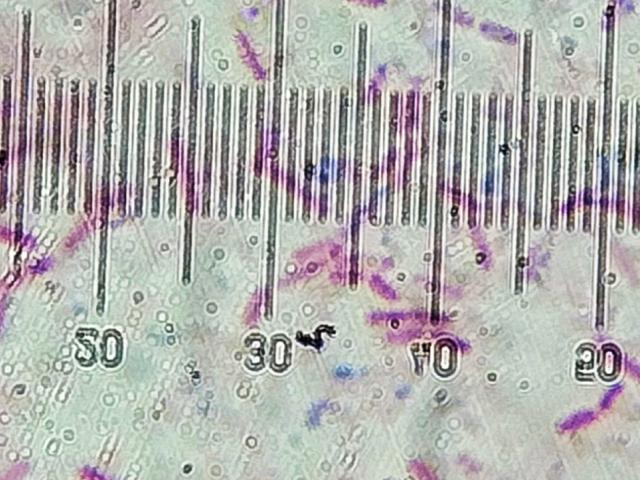E. coli: (391, 325, 479, 357), (225, 30, 269, 78), (365, 306, 447, 323), (59, 220, 88, 262), (363, 57, 391, 98), (465, 222, 492, 264), (401, 450, 438, 480), (556, 407, 591, 438), (595, 380, 621, 418), (479, 22, 519, 46), (292, 237, 330, 261), (291, 262, 338, 281), (243, 285, 266, 321), (2, 223, 39, 245), (612, 346, 640, 374), (528, 259, 551, 293), (25, 256, 54, 282), (345, 0, 391, 15), (443, 0, 474, 21), (368, 273, 391, 297), (80, 461, 104, 480)
